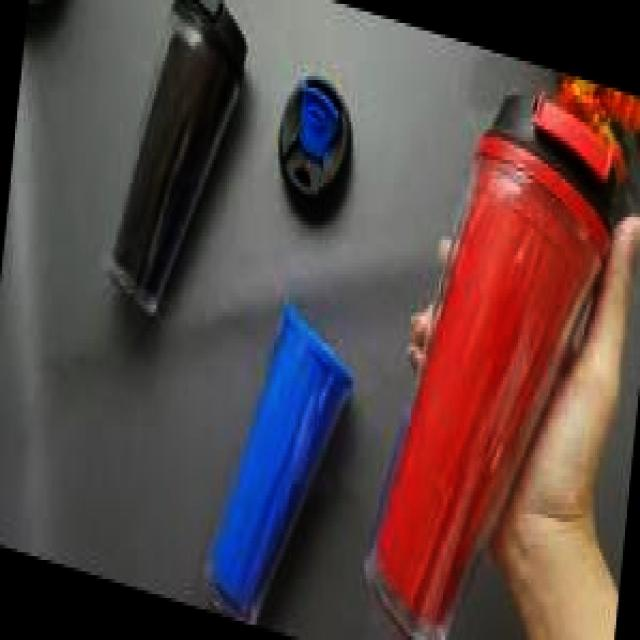bottle: (347, 45, 638, 640), (186, 278, 366, 640), (92, 0, 263, 339)
